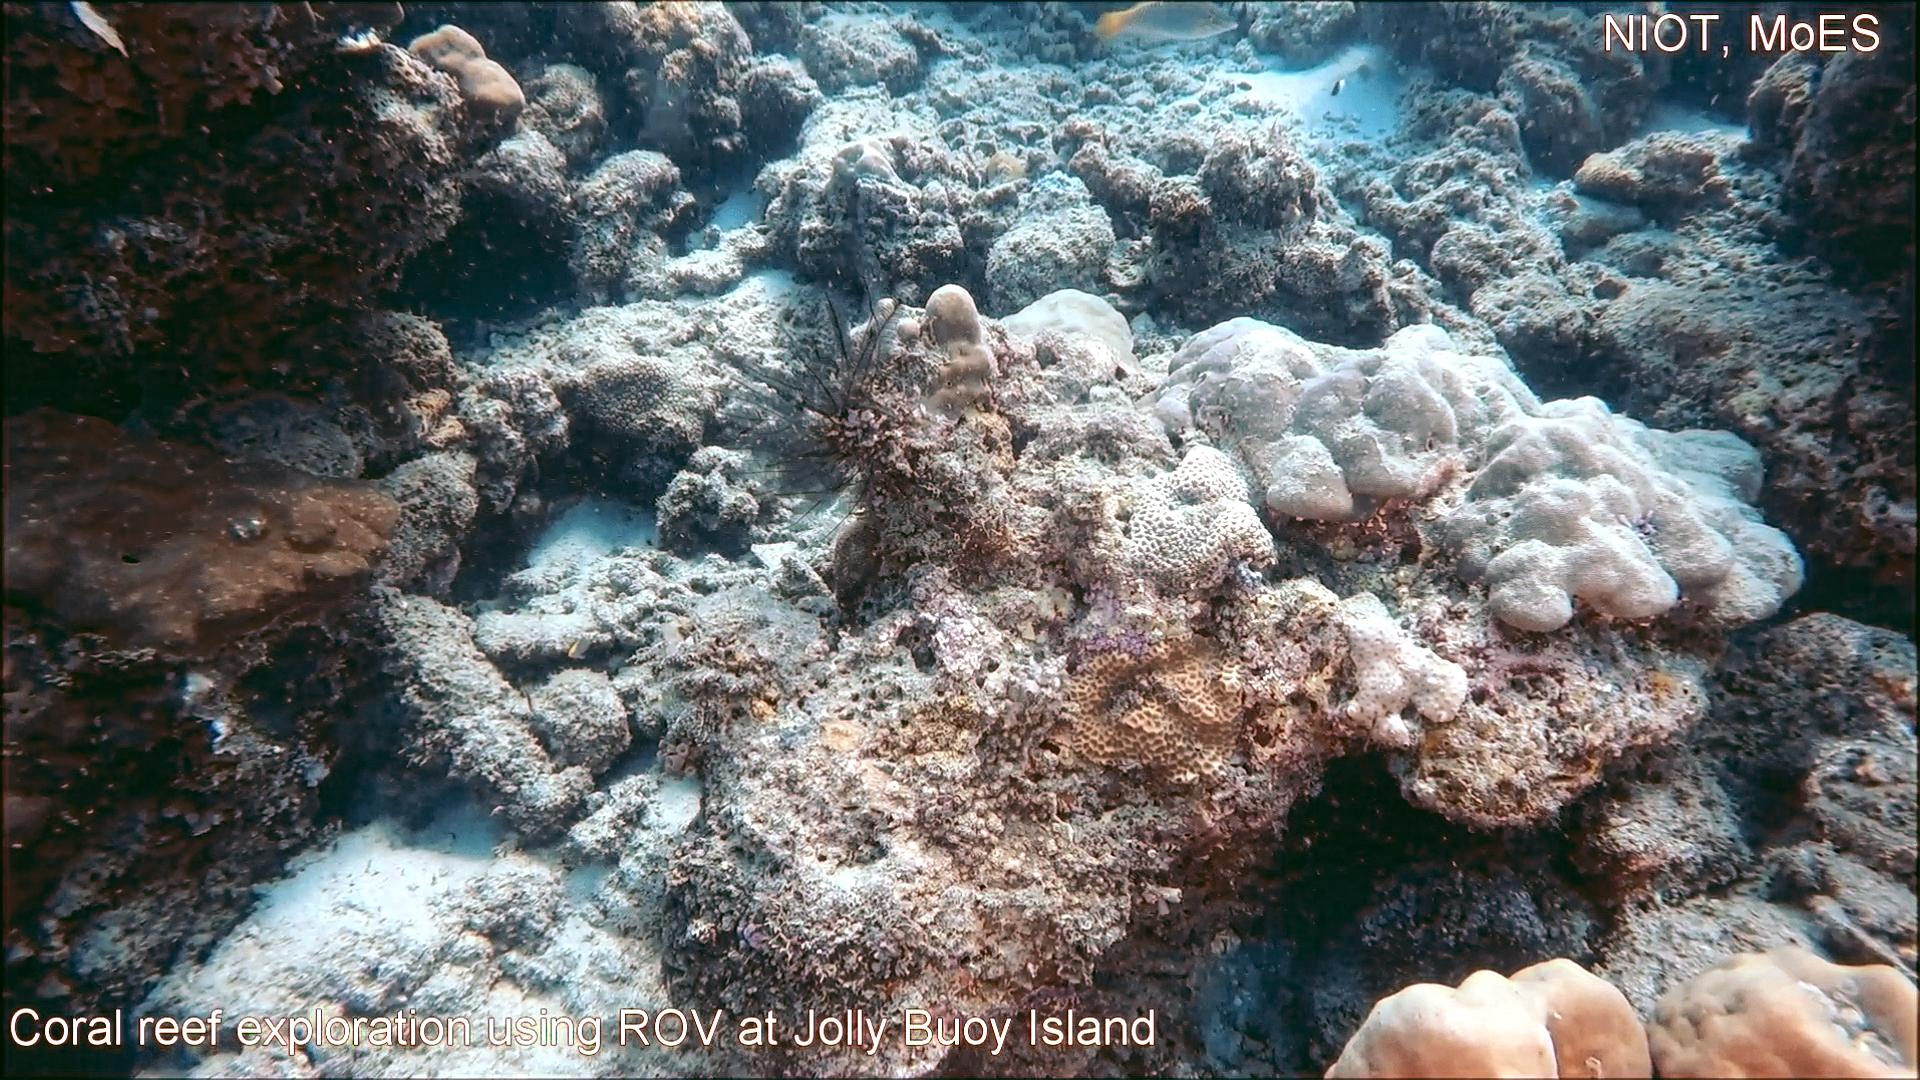Favites-Favites vasta: (1040, 629, 1253, 793)
Feather star-Crinoid star: (666, 244, 916, 566)
Goniastrea-Goniastrea pectinata: (1122, 438, 1280, 597)
Porites-Porites pukoensis: (1358, 318, 1811, 640)
Turbinaria-Turbinaria stellulata: (550, 359, 682, 454)
